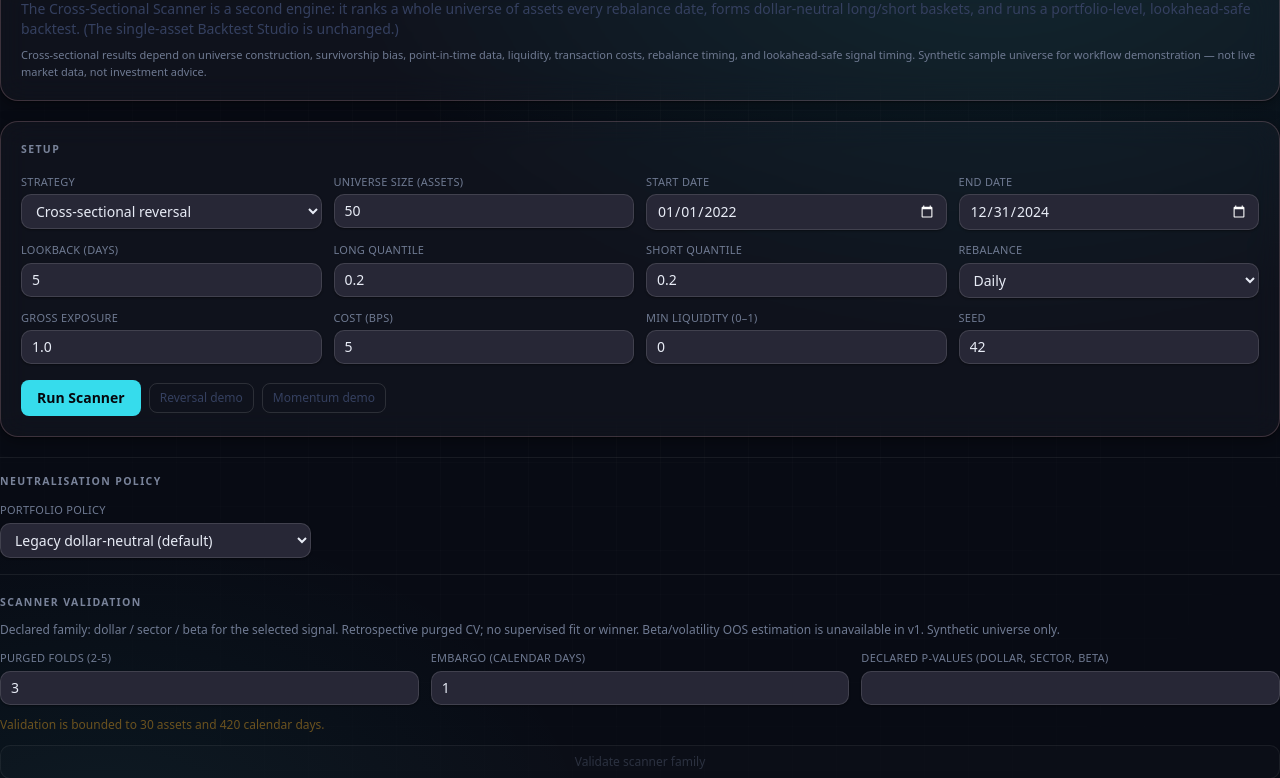
it: ScannerLabPanel › keeps the legacy default and computes only after an explicit Run
Expected: the dropdown labelled "Portfolio policy" shows "Legacy dollar-neutral (default)", 0,522 -> 311,558
Click the button "Run Scanner" at (81, 398), box 21,380 -> 141,416
(page scrolled)
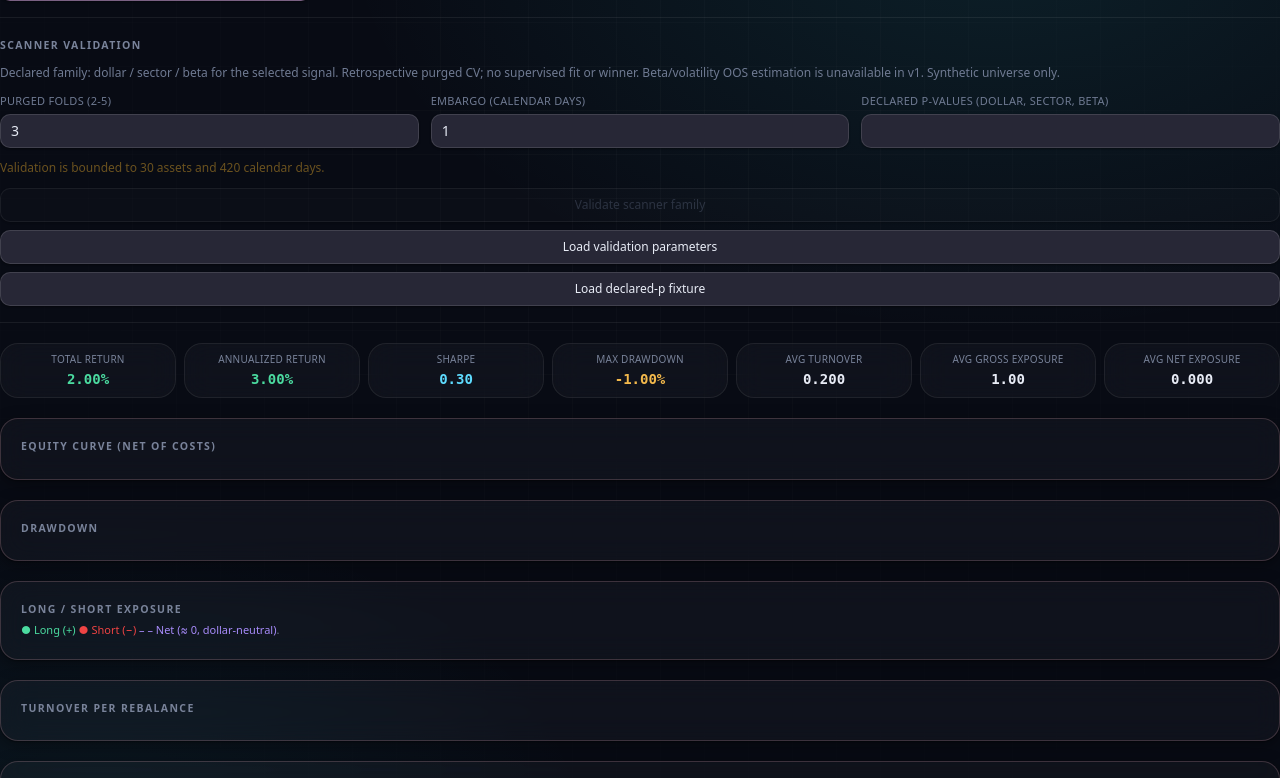
Expected: the text "2.00%" is shown, 67,371 -> 109,387
